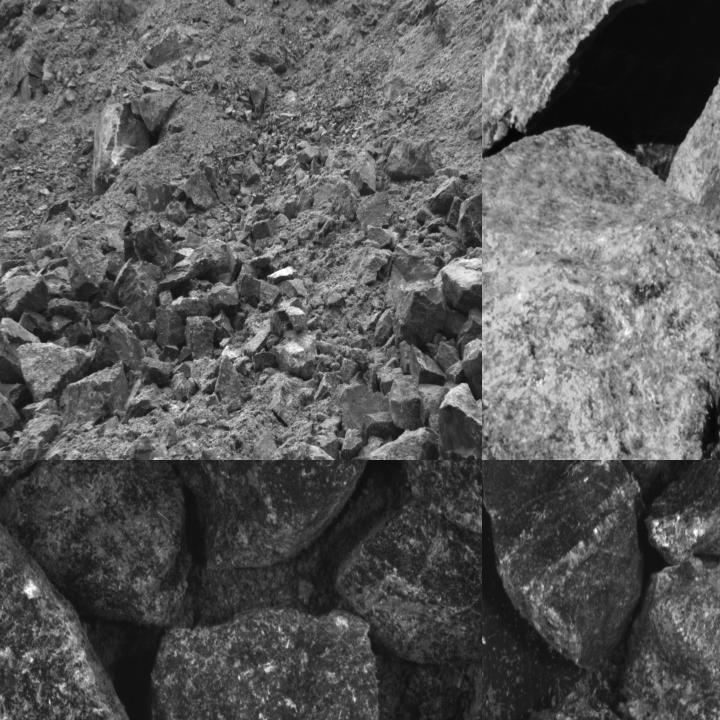stone: (482, 124, 719, 459), (0, 481, 161, 719), (482, 460, 641, 669), (0, 460, 197, 627), (146, 606, 376, 719), (337, 493, 481, 669), (179, 460, 407, 571), (612, 556, 719, 719), (646, 460, 719, 564), (92, 102, 151, 194), (18, 343, 97, 409), (60, 364, 128, 432), (81, 312, 145, 373), (115, 260, 163, 339), (388, 256, 432, 330), (439, 386, 481, 459), (124, 226, 186, 275), (161, 243, 228, 287), (332, 382, 390, 432), (398, 287, 446, 347), (0, 316, 41, 383), (0, 265, 48, 320), (436, 258, 481, 316), (361, 427, 442, 459), (9, 414, 63, 459), (68, 246, 108, 300), (608, 460, 680, 490), (385, 139, 438, 178), (388, 376, 422, 430), (278, 330, 316, 378), (355, 192, 395, 234), (349, 244, 390, 283), (408, 344, 446, 385), (237, 273, 280, 307), (156, 304, 186, 350), (180, 172, 218, 207), (186, 315, 216, 359), (268, 306, 311, 336), (214, 356, 244, 398), (331, 179, 362, 219), (430, 178, 464, 214), (460, 193, 481, 251), (462, 339, 481, 401), (0, 392, 25, 439), (208, 281, 241, 312), (271, 444, 339, 459), (190, 356, 218, 391), (351, 154, 375, 194), (456, 315, 481, 352), (364, 414, 398, 441), (62, 318, 95, 345), (268, 386, 292, 423), (140, 358, 172, 385), (340, 425, 365, 459), (22, 399, 60, 421), (48, 300, 92, 318), (21, 312, 50, 338), (313, 432, 340, 459), (434, 342, 461, 369), (254, 430, 279, 459), (374, 368, 403, 390), (251, 217, 278, 240), (376, 310, 393, 344), (216, 312, 235, 340), (49, 315, 72, 338), (366, 225, 391, 246), (280, 278, 306, 298), (254, 352, 278, 372), (243, 159, 261, 185), (294, 189, 312, 215), (166, 201, 187, 223), (296, 145, 320, 164), (201, 445, 230, 459), (467, 113, 481, 141), (445, 361, 463, 382), (399, 342, 411, 373)
